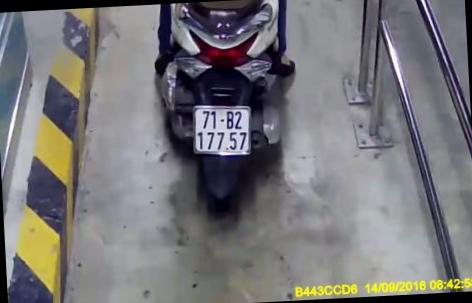LP: (191, 102, 253, 158)
